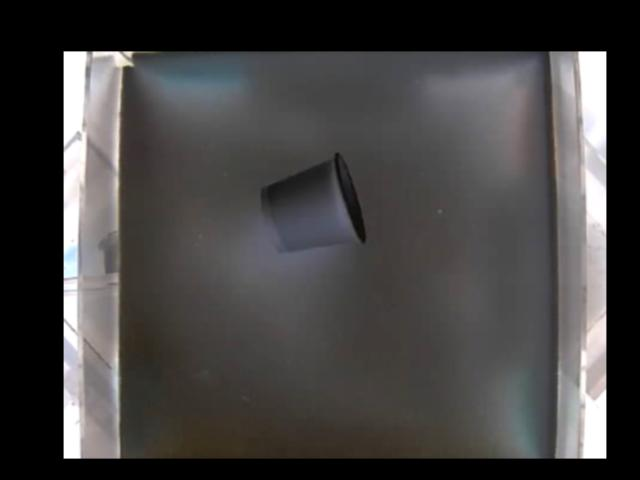Cup: (257, 152, 364, 254)
